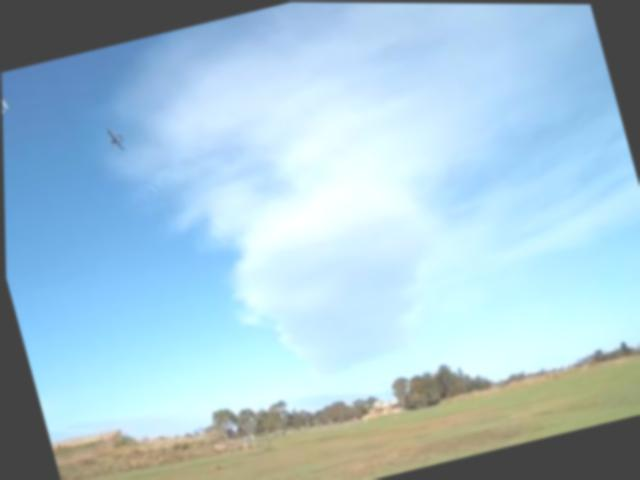uav: (98, 120, 131, 158)
